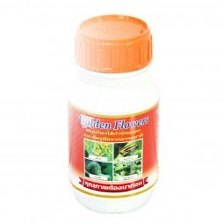insecticide: (62, 9, 164, 218)
